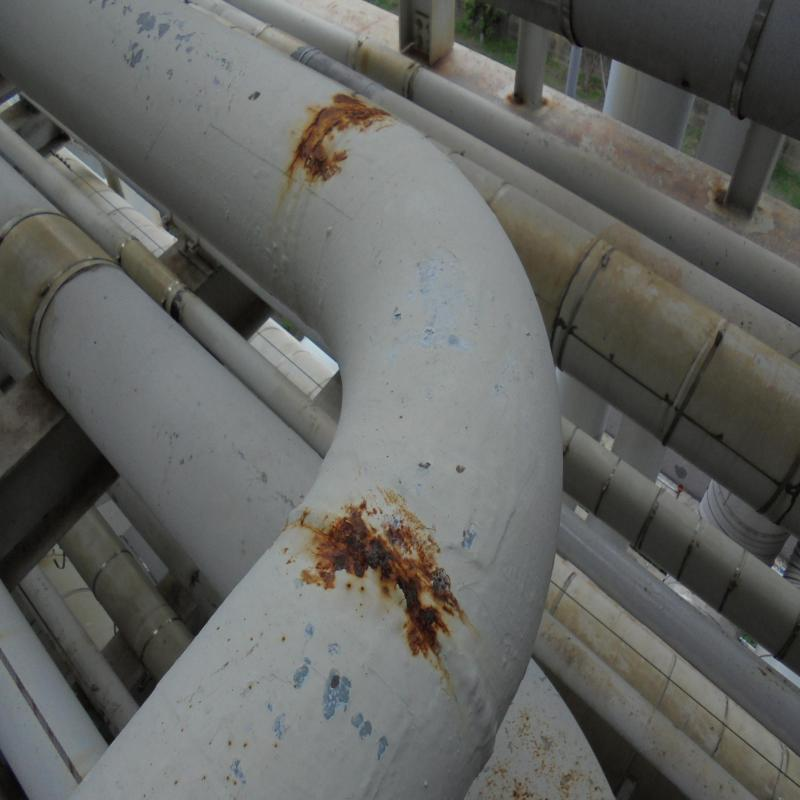corrosion: (323, 478, 463, 634), (299, 77, 367, 177)
